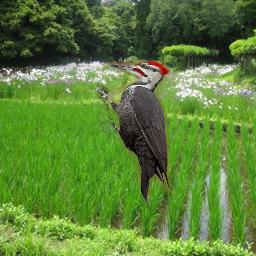Woodpecker: (97, 61, 171, 206)
